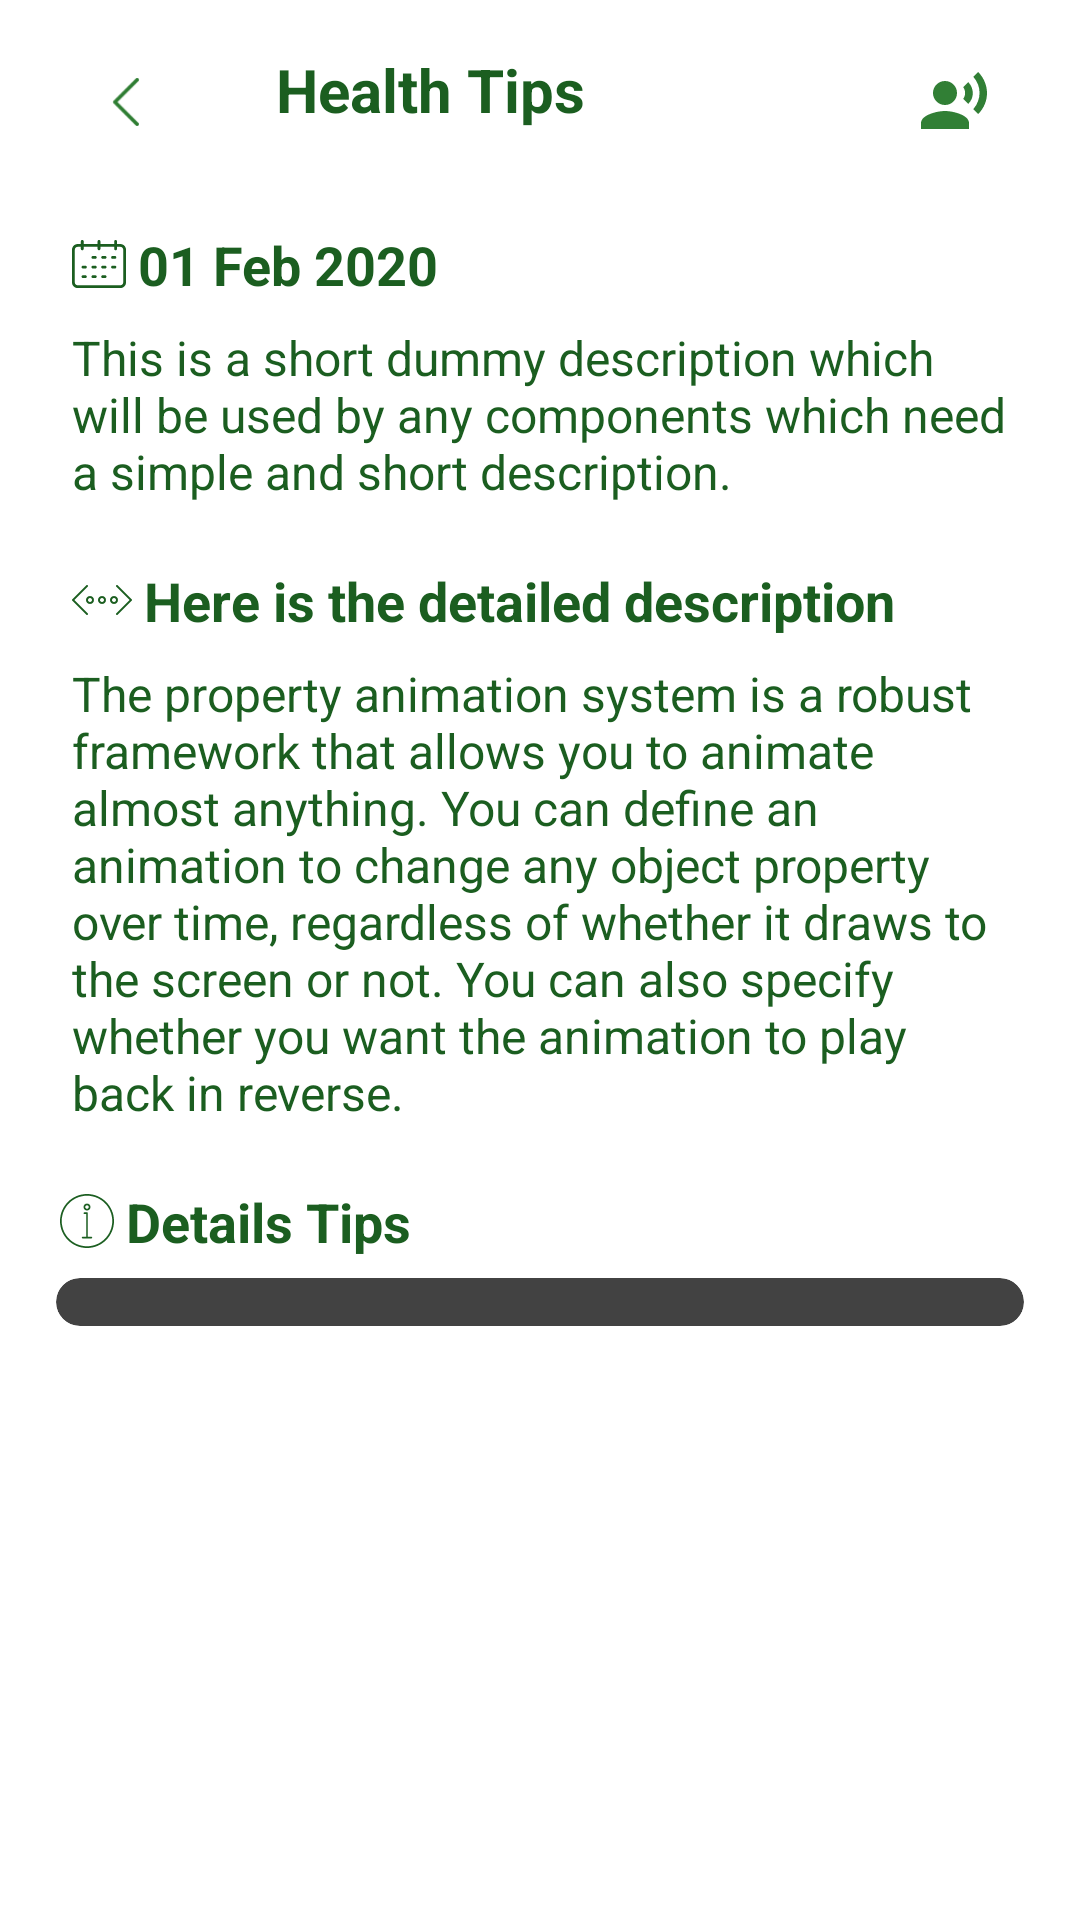

Screen size 1080×1920. Icon name, then its center in pixels as point (x, y):
left arrow: point (126, 102)
record voice over: point (954, 100)
